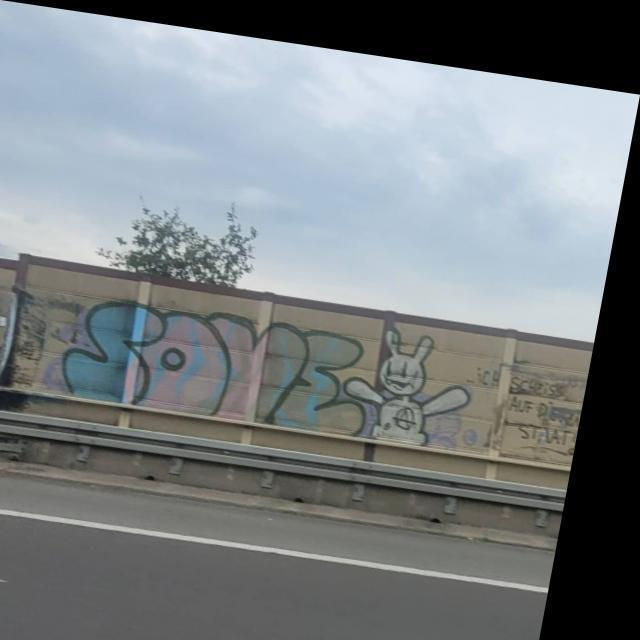nonspitting: (65, 299, 368, 439), (508, 376, 580, 446)
spitting: (347, 330, 473, 448)
